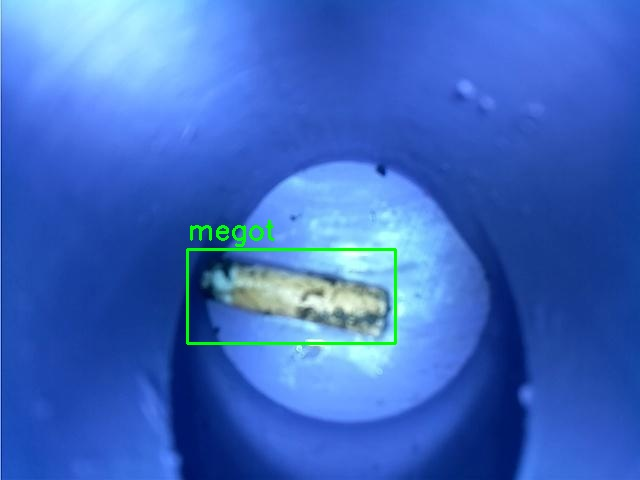megot: (187, 249, 395, 343)
